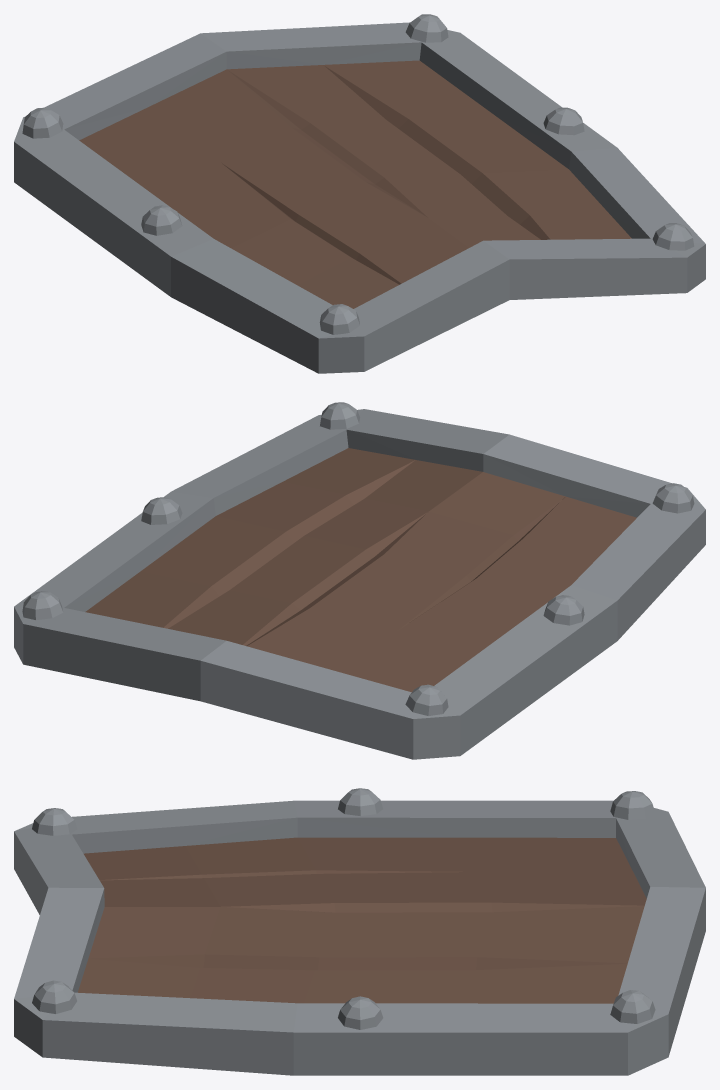
Rendered from shield.fbx.
The picture shows the model from 3 angles, top to bottom: view 1: azimuth 30°, elevation 25°; view 2: azimuth 150°, elevation 25°; view 3: azimuth 270°, elevation 25°; orthographic projection. The views are drawn at different scales.
Visible parts, largest first — view 1: Shield; view 2: Shield; view 3: Shield.
Part boxes in pixels (x1,y1,x2,y2): Shield: (14, 14, 705, 373); Shield: (14, 402, 705, 759); Shield: (14, 788, 705, 1075).
Bounding box in the file's own units: 115 × 18 × 145.
